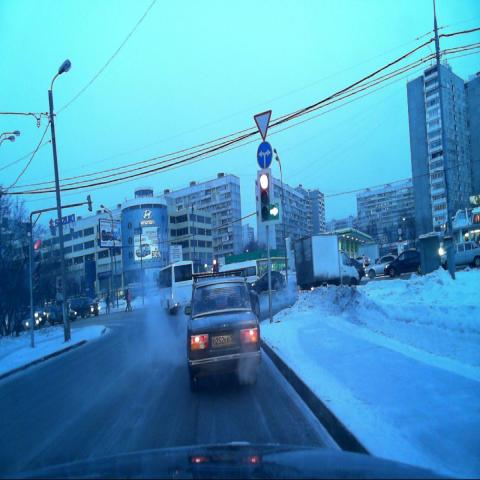4_1_6: (256, 142, 272, 170)
